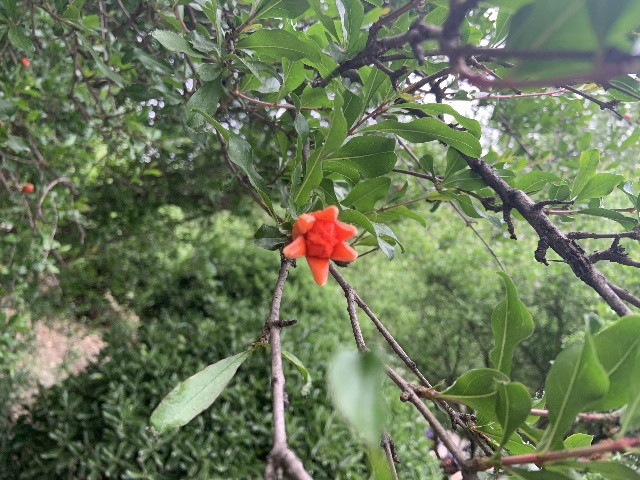flower: (282, 204, 358, 285)
